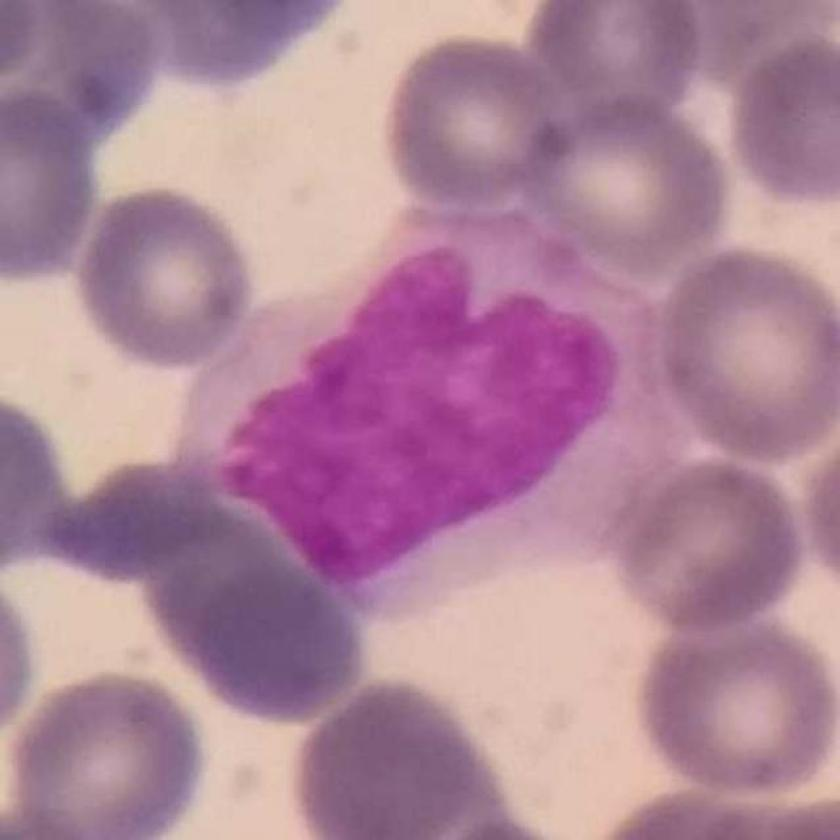monocyte: (168, 198, 701, 622)
